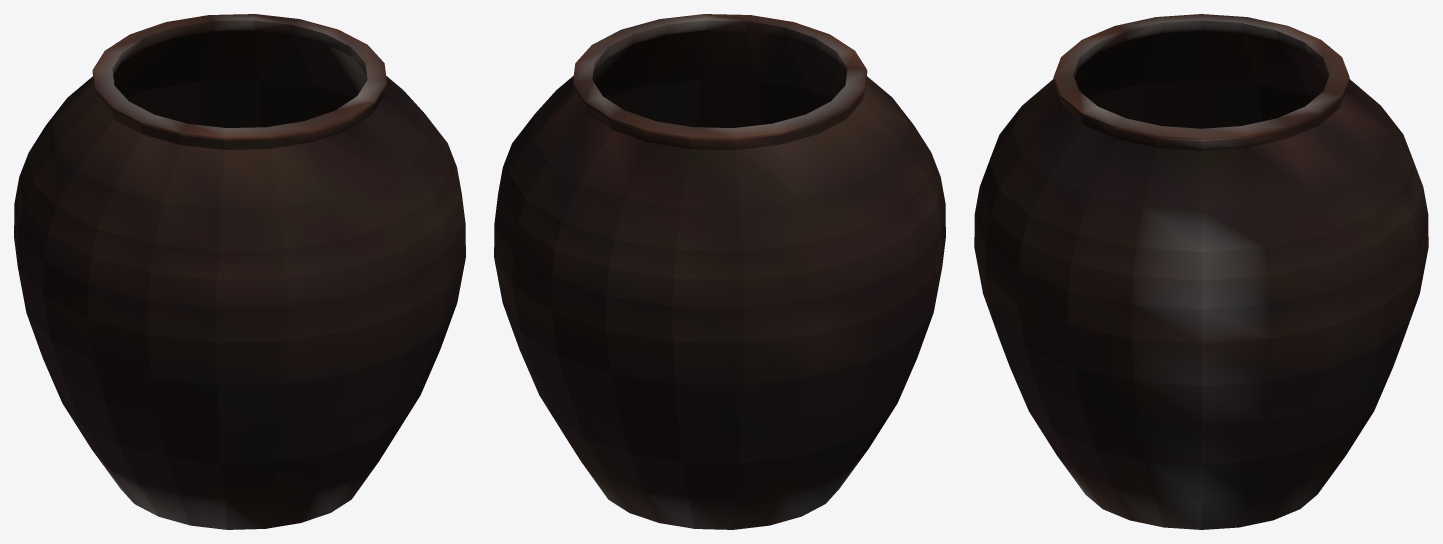
The model's file is jar_9908305b.glb.
3 renders of one model, left to right at view 1: azimuth 30°, elevation 25°; view 2: azimuth 150°, elevation 25°; view 3: azimuth 270°, elevation 25°, orthographic.
Parts seen in each view (by area): view 1: SM_Jar01b_M_Jar01b_0; view 2: SM_Jar01b_M_Jar01b_0; view 3: SM_Jar01b_M_Jar01b_0.
Part boxes in pixels (x1,y1,x2,y2): SM_Jar01b_M_Jar01b_0: [14, 14, 465, 529]; SM_Jar01b_M_Jar01b_0: [494, 14, 945, 529]; SM_Jar01b_M_Jar01b_0: [974, 14, 1428, 529].
Size of the model in its own units: 0.762 by 0.7518 by 0.762.
